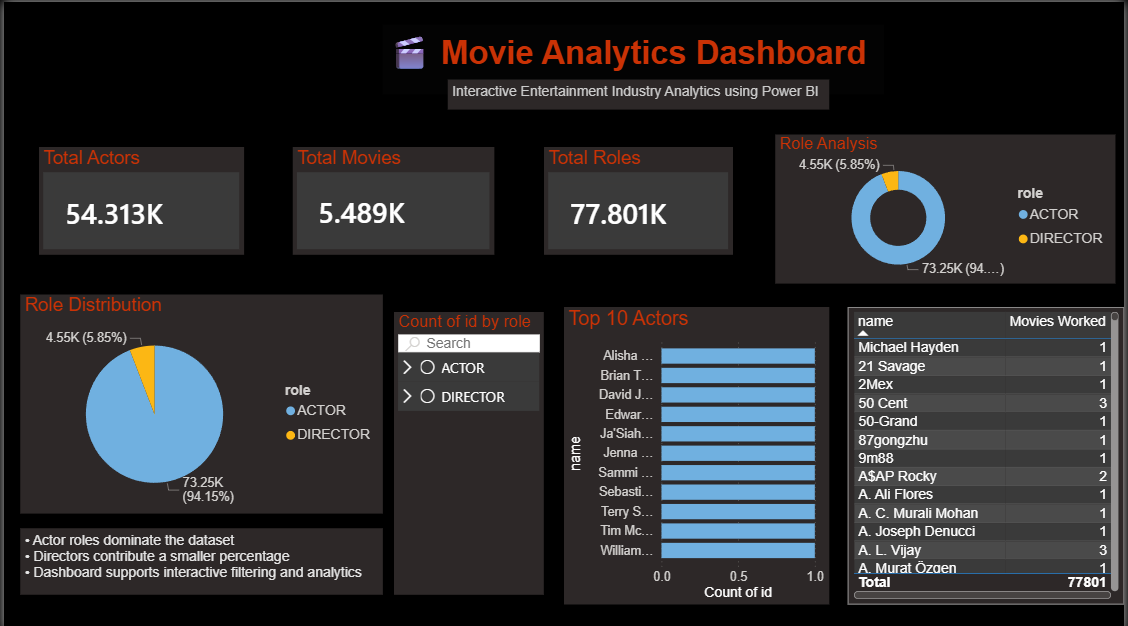

The dashboard page shown, as its layout file describes it:
{"tool":"powerbi","page":{"name":"Page 1","canvas":[1280,720],"ordinal":0},"visuals":[{"type":"cardVisual","title":"Total Actors","fields":{"Data":["Count(credits.name)"]},"box":[60,145.7,287.1,122.9],"z":0},{"type":"cardVisual","title":"Total Movies","fields":{"Data":["Count(credits.id)"]},"box":[432.9,145.7,288.6,122.9],"z":1000},{"type":"cardVisual","title":"Total Roles","fields":{"Data":["CountNonNull(credits.role)"]},"box":[802.9,145.7,274.3,122.9],"z":2000},{"type":"pieChart","title":"Role Distribution","fields":{"Category":["credits.role"],"Y":["CountNonNull(credits.role)"]},"box":[18.6,321.4,400,250],"z":3000},{"type":"listSlicer","fields":{"Values":["credits.role","credits.name"]},"box":[445.7,338.6,194.3,322.9],"z":4000},{"type":"clusteredBarChart","title":"Top 10 Actors","fields":{"Y":["CountNonNull(credits.id)"],"Category":["credits.name"]},"box":[662.9,321.4,280,340],"z":5000},{"type":"textbox","box":[432.5,26.2,572.5,80],"z":6000},{"type":"donutChart","title":"Role Analysis","fields":{"Category":["credits.role"],"Y":["CountNonNull(credits.role)"]},"box":[1087,104.5,193,150],"z":7000},{"type":"tableEx","title":"Movies Worked","fields":{"Values":["credits.name","credits.id"]},"box":[964.3,321.4,315.7,340],"z":8000},{"type":"textbox","box":[18.6,601.4,400,75.7],"z":8001},{"type":"textbox","box":[507.1,88.6,435.7,34.3],"z":8002}]}

Visuals, with their boxes in screenshot pixels (x1, y1, x2, y2), scaled from the page's 1280x720 canvas onto the 1128x626 screenshot:
"Total Actors" cardVisual: crop(53, 127, 306, 234)
"Total Movies" cardVisual: crop(381, 127, 636, 234)
"Total Roles" cardVisual: crop(708, 127, 949, 234)
"Role Distribution" pieChart: crop(16, 279, 369, 497)
listSlicer - credits.role x credits.name: crop(393, 294, 564, 575)
"Top 10 Actors" clusteredBarChart: crop(584, 279, 831, 575)
textbox: crop(381, 23, 886, 92)
"Role Analysis" donutChart: crop(958, 91, 1127, 221)
"Movies Worked" tableEx: crop(850, 279, 1127, 575)
textbox: crop(16, 523, 369, 589)
textbox: crop(447, 77, 831, 107)
